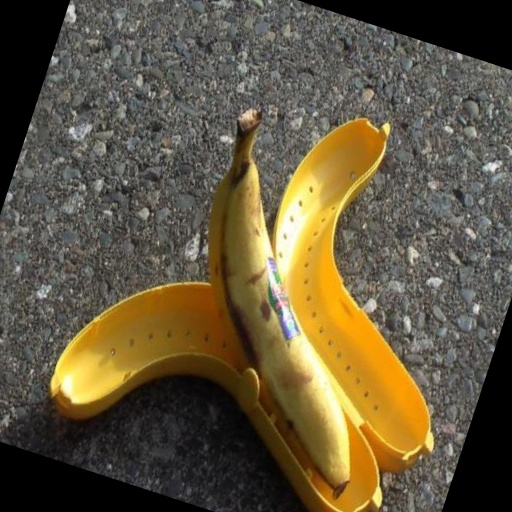fruit: (109, 36, 360, 274)
